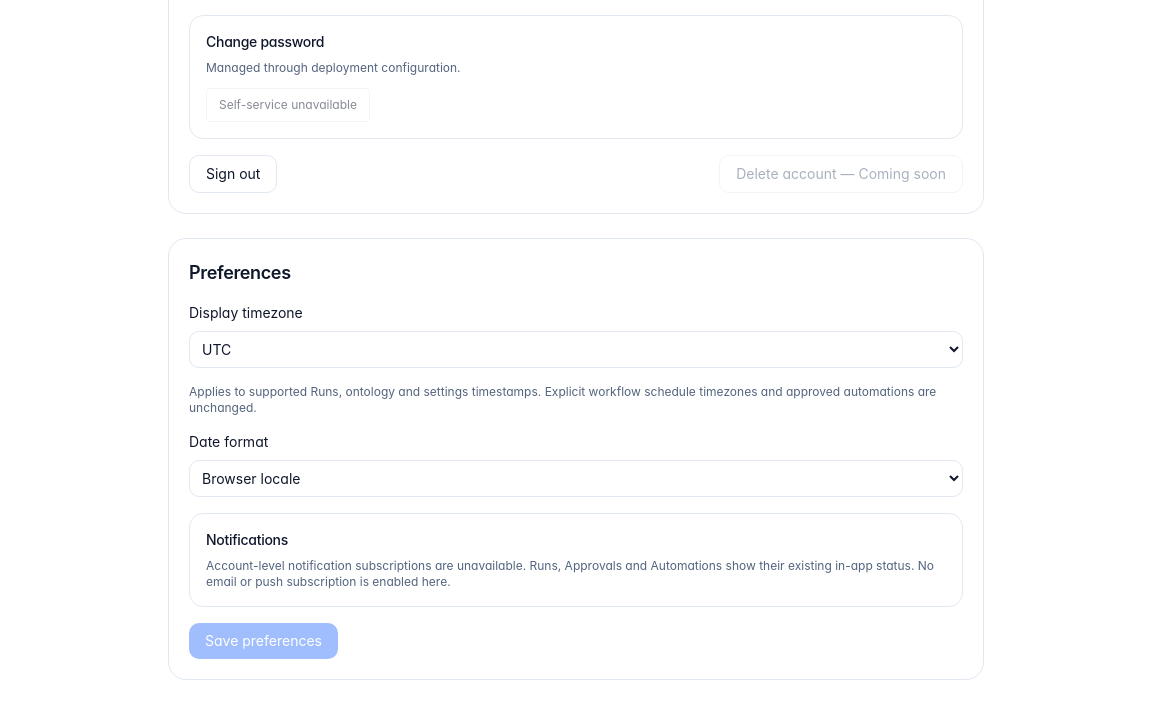
Scenario: persists display preferences through the scoped API
(page scrolled)
Select "Day/month/year" in the dropdown labelled "Date format" at (576, 478), box left=189, top=460, right=963, bottom=497
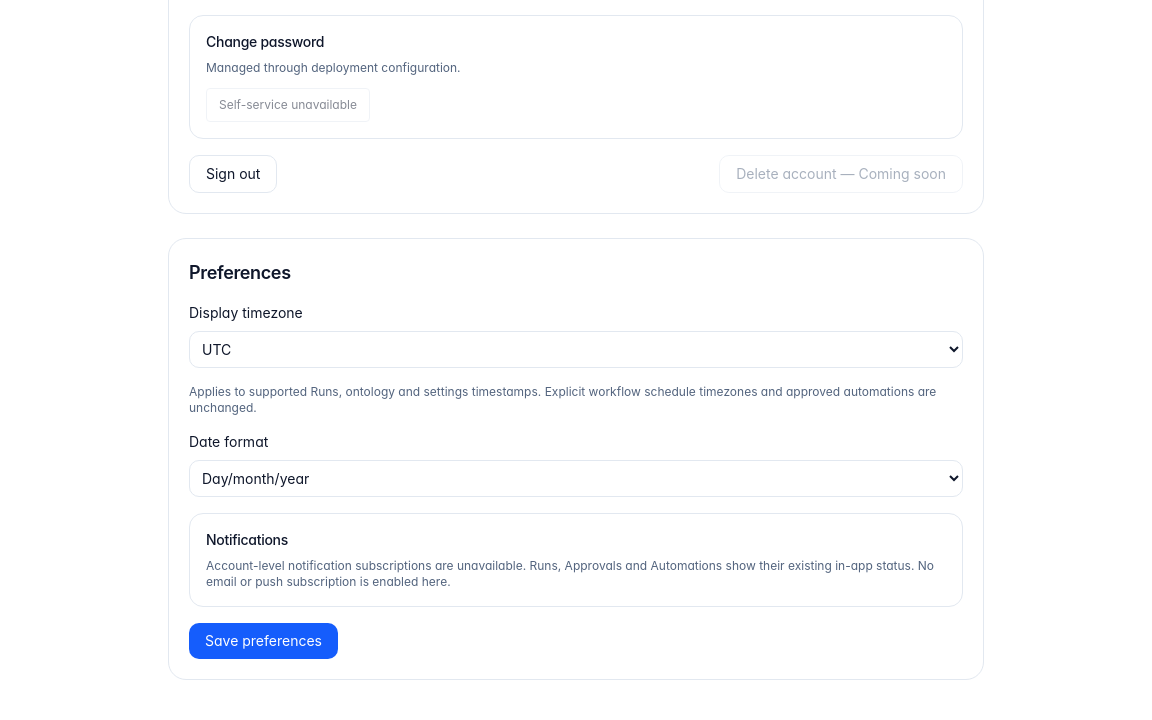
Click the button "Save preferences" at (264, 641), box left=189, top=623, right=338, bottom=659
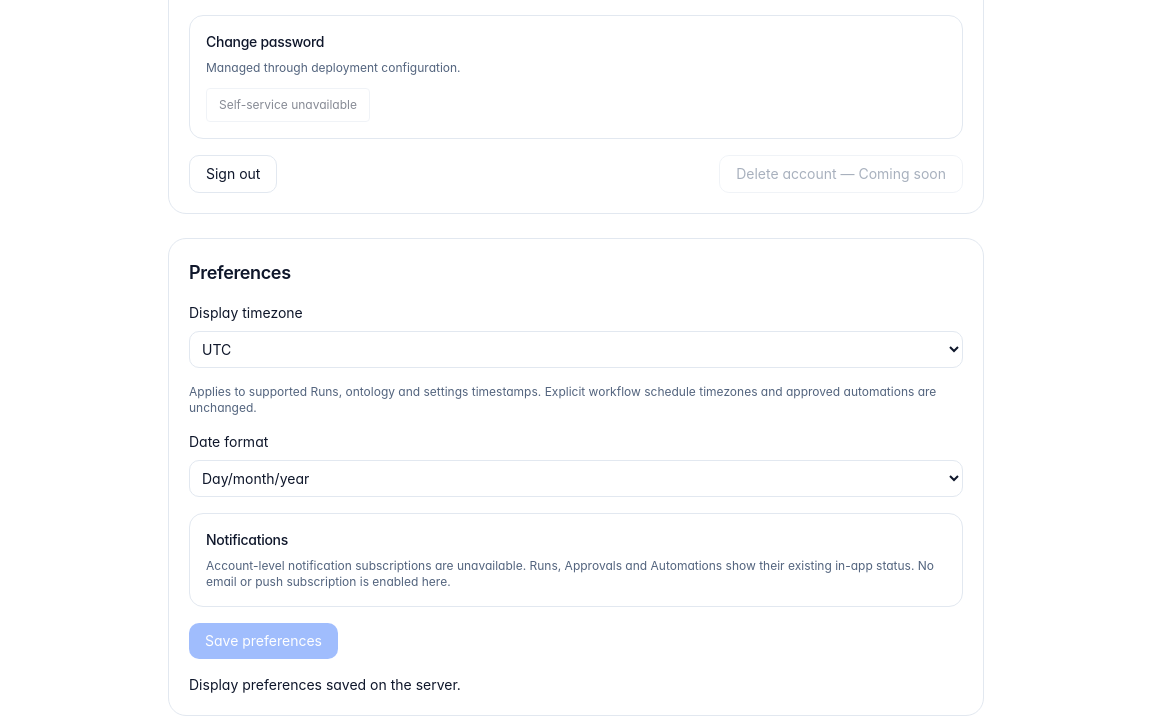
Result: the text "Display preferences saved on the server." is shown at left=189, top=676, right=461, bottom=693
